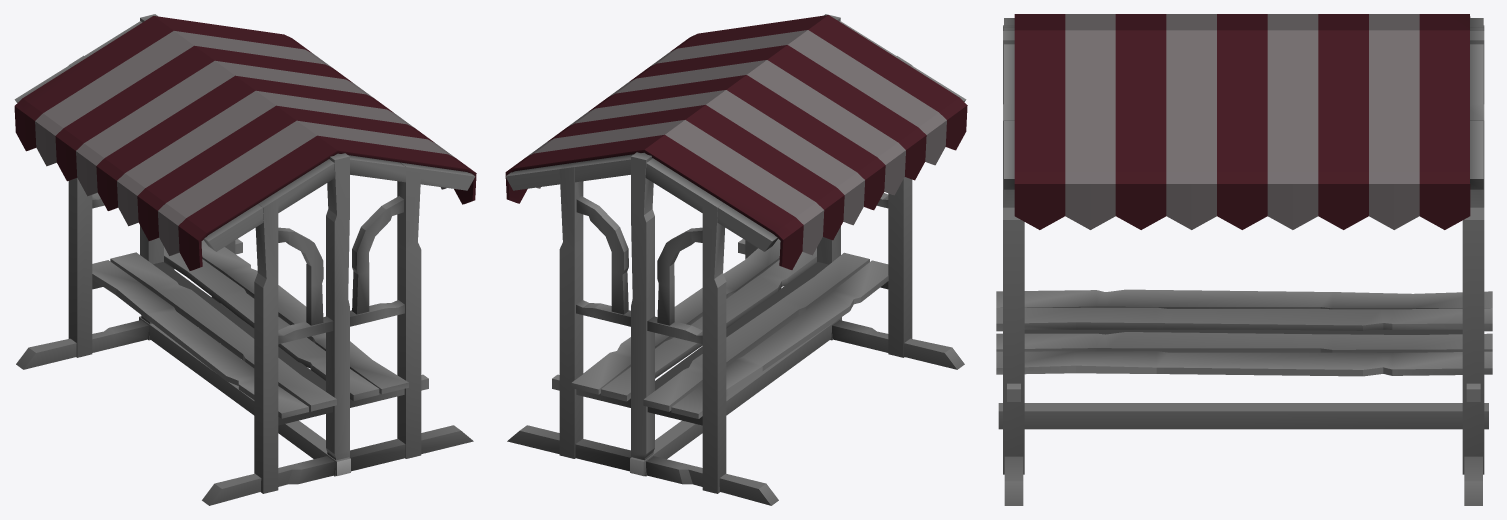
The model's file is pq_etal_auvent.glb.
The picture shows the model from 3 angles, left to right: view 1: azimuth 30°, elevation 25°; view 2: azimuth 150°, elevation 25°; view 3: azimuth 270°, elevation 25°; orthographic projection. The views are drawn at different scales.
Parts seen in each view (by area): view 1: MarketStand_1; view 2: MarketStand_1; view 3: MarketStand_1.
Part boxes in pixels (x1,y1,x2,y2): MarketStand_1: [14, 14, 476, 505]; MarketStand_1: [505, 14, 967, 505]; MarketStand_1: [996, 14, 1492, 505].
Bounding box in the file's own units: 2.27 × 2.5 × 2.84.
